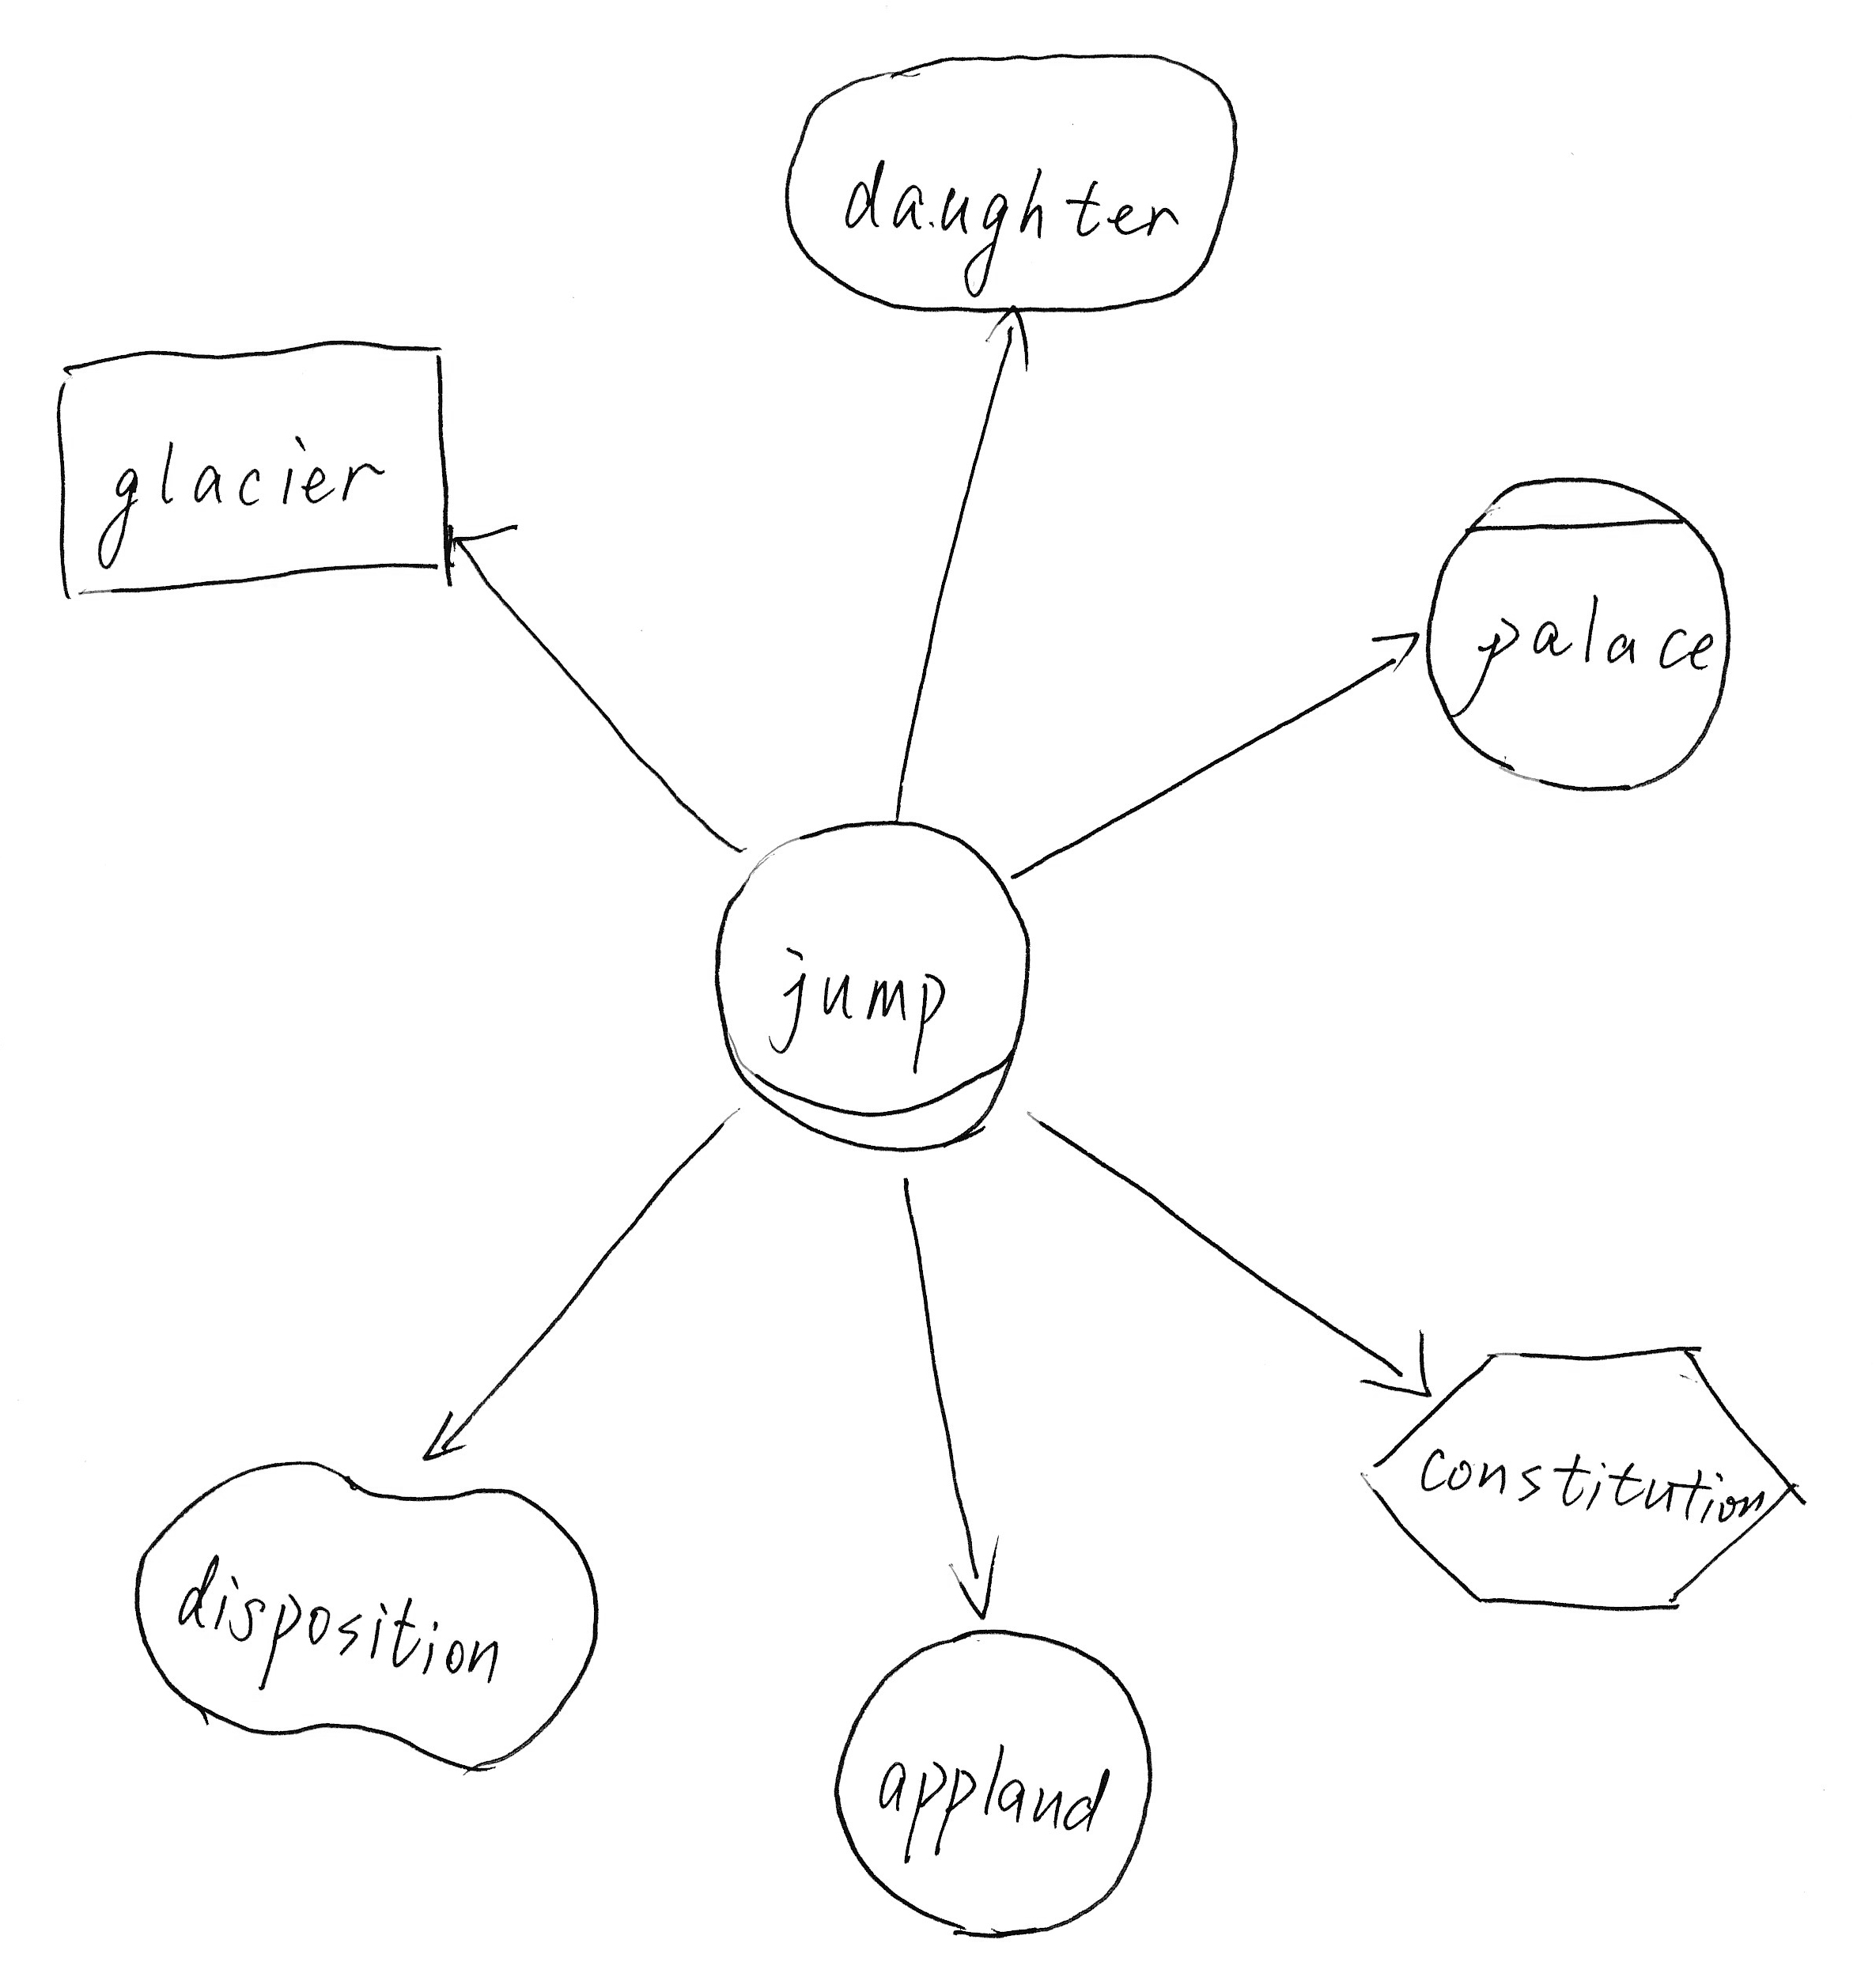actor: (822, 1614, 1165, 1949)
agent: (1414, 459, 1749, 811)
arrow: (1324, 1291, 1444, 1407), (926, 1522, 1023, 1631), (423, 513, 531, 598), (1347, 601, 1426, 704), (411, 1390, 490, 1481), (975, 300, 1047, 376)
goal: (763, 30, 1254, 332)
quality: (116, 1450, 615, 1797)
resource: (39, 328, 473, 615)
role: (695, 797, 1046, 1169)
task: (1345, 1321, 1821, 1638)
